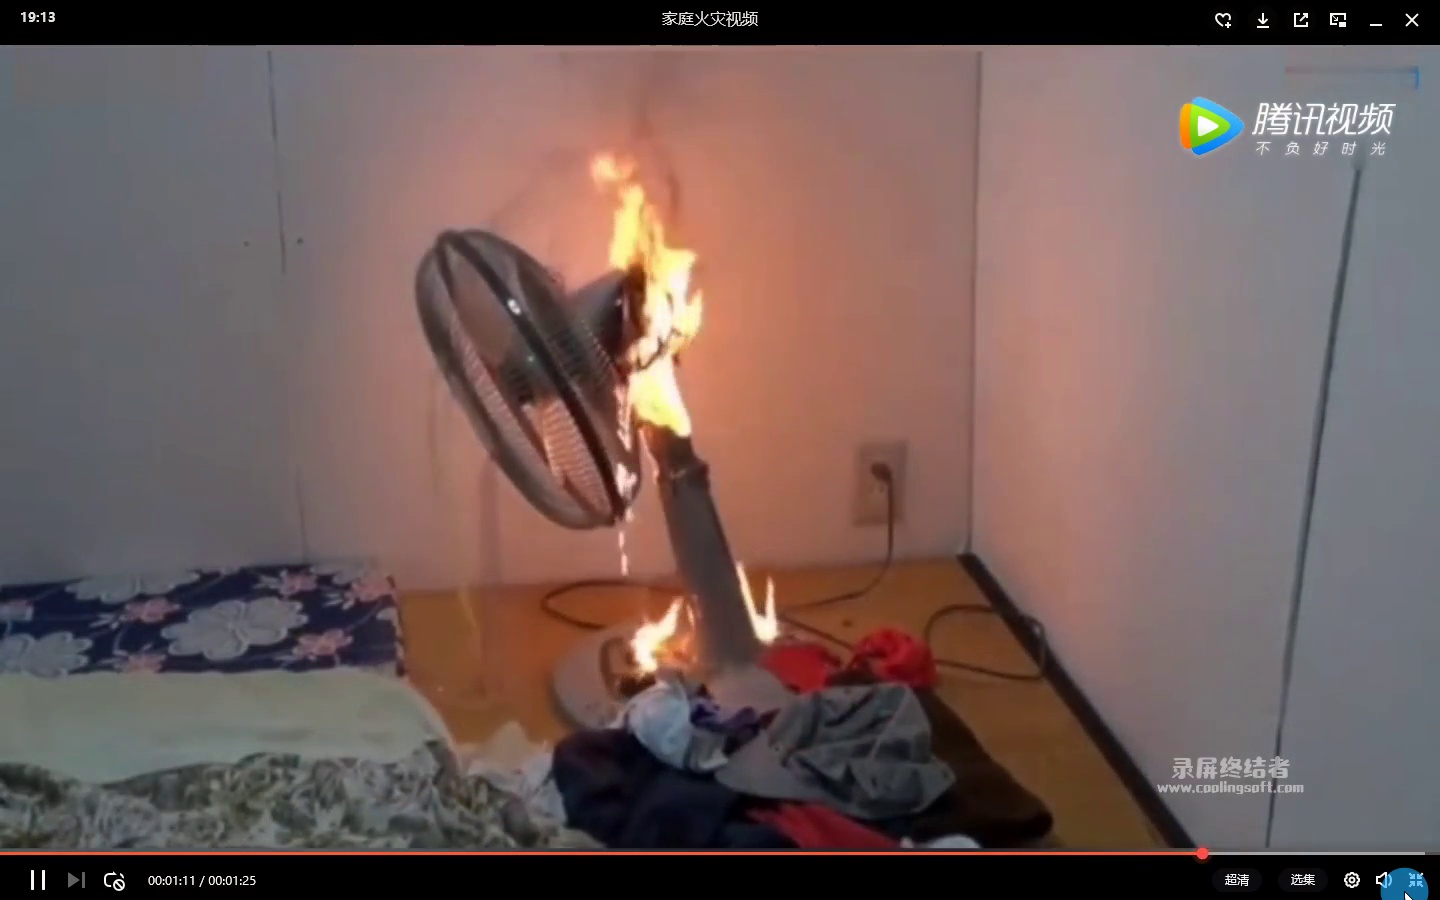fire: (585, 148, 715, 431)
